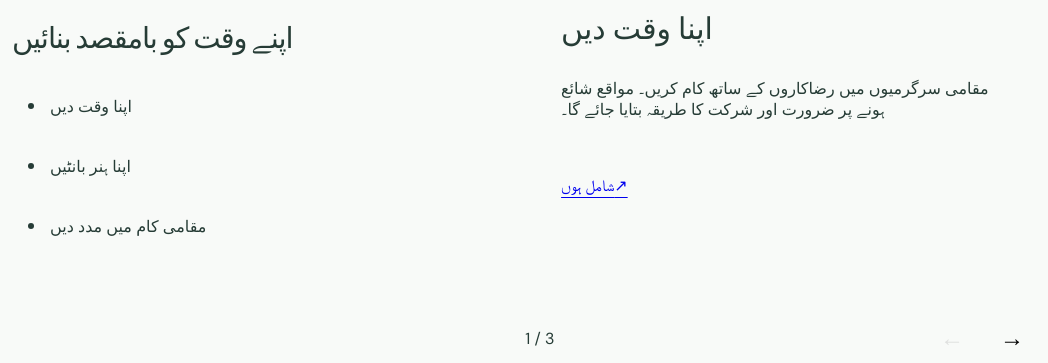
it: reduced motion keeps a single manual panel without forcing scroll
Click the button "اپنا ہنر بانٹیں" at [90, 166], box [12,140,474,192]
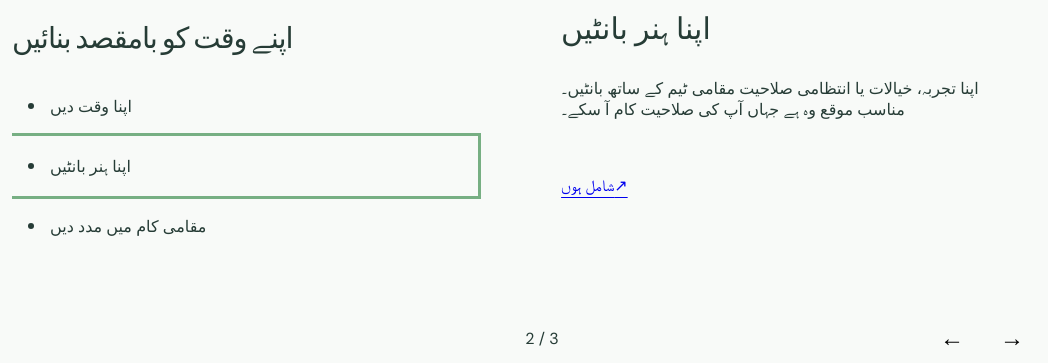
Expected: the text "اپنا تجربہ" is shown, [561,78,979,120]
